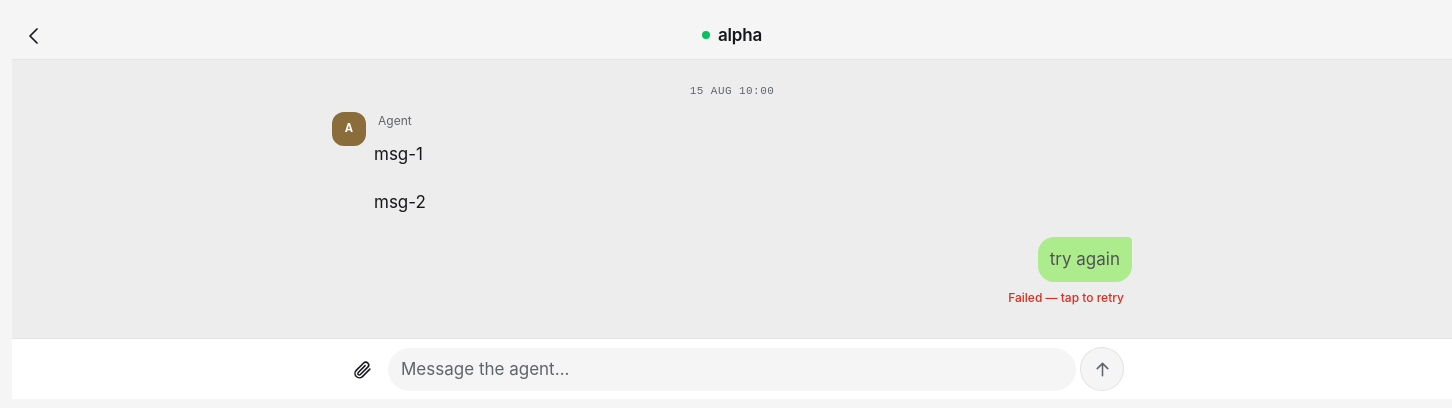
outbox bubbles › a failed item offers retry, and retrying re-sends it
Check: the text "msg-1" is shown, box [374,144,423,164]
Click the button "Failed — tap to retry".
click(1066, 298)  # box [1000,285,1132,310]
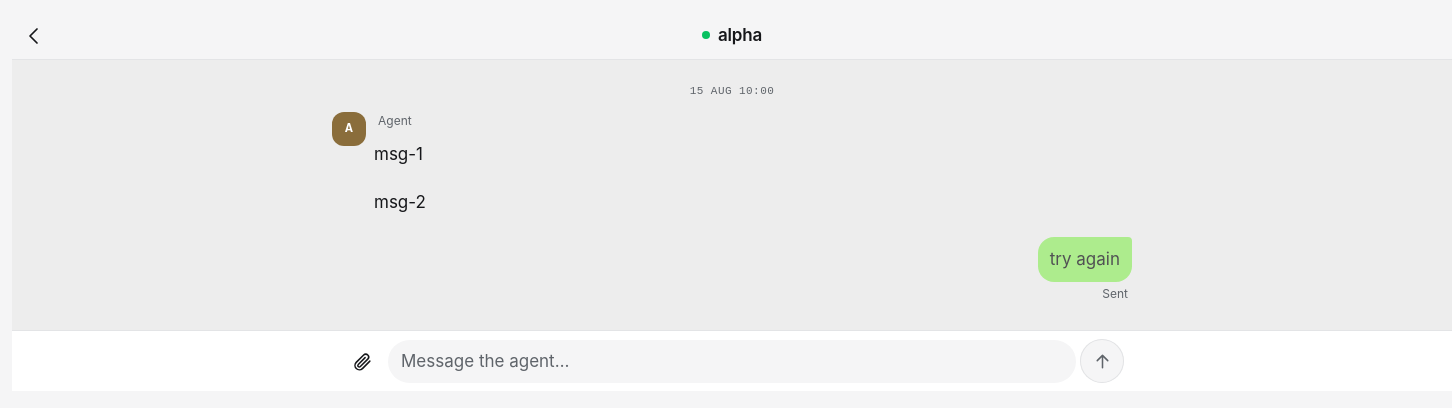
Check: the text "Sent" is shown, box [1102,285,1128,302]
